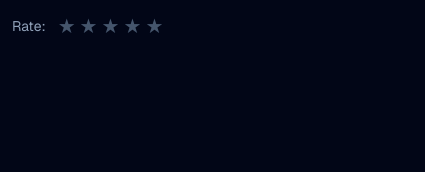
Test: RatingStars › tells the user when the rating fails to save
The width and height of the screenshot is (425, 172).
Click the 3rd button "★": (110, 26) [102,12,119,40]
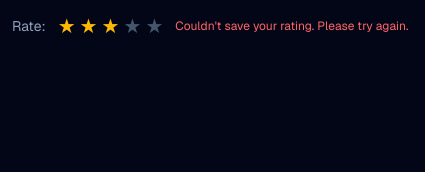
Check: the message shows "Couldn't save", box [175,18,408,34]
